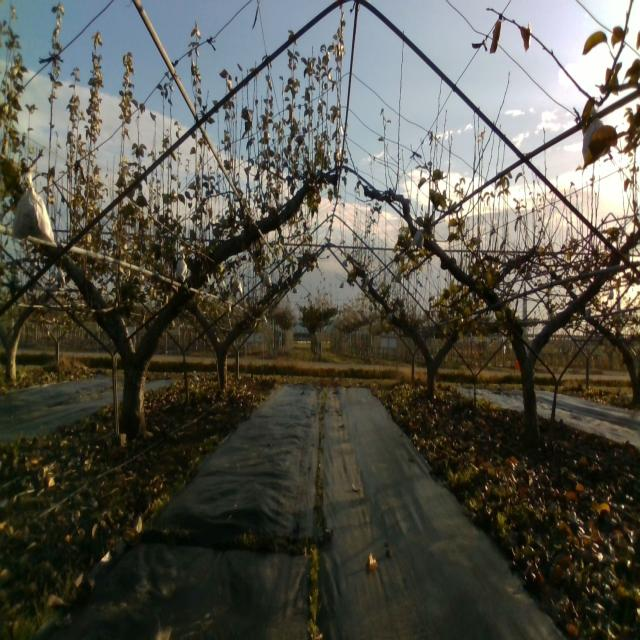pearbags: (10, 170, 54, 244), (583, 104, 605, 163), (176, 257, 188, 283), (411, 228, 424, 250), (230, 279, 242, 300)
